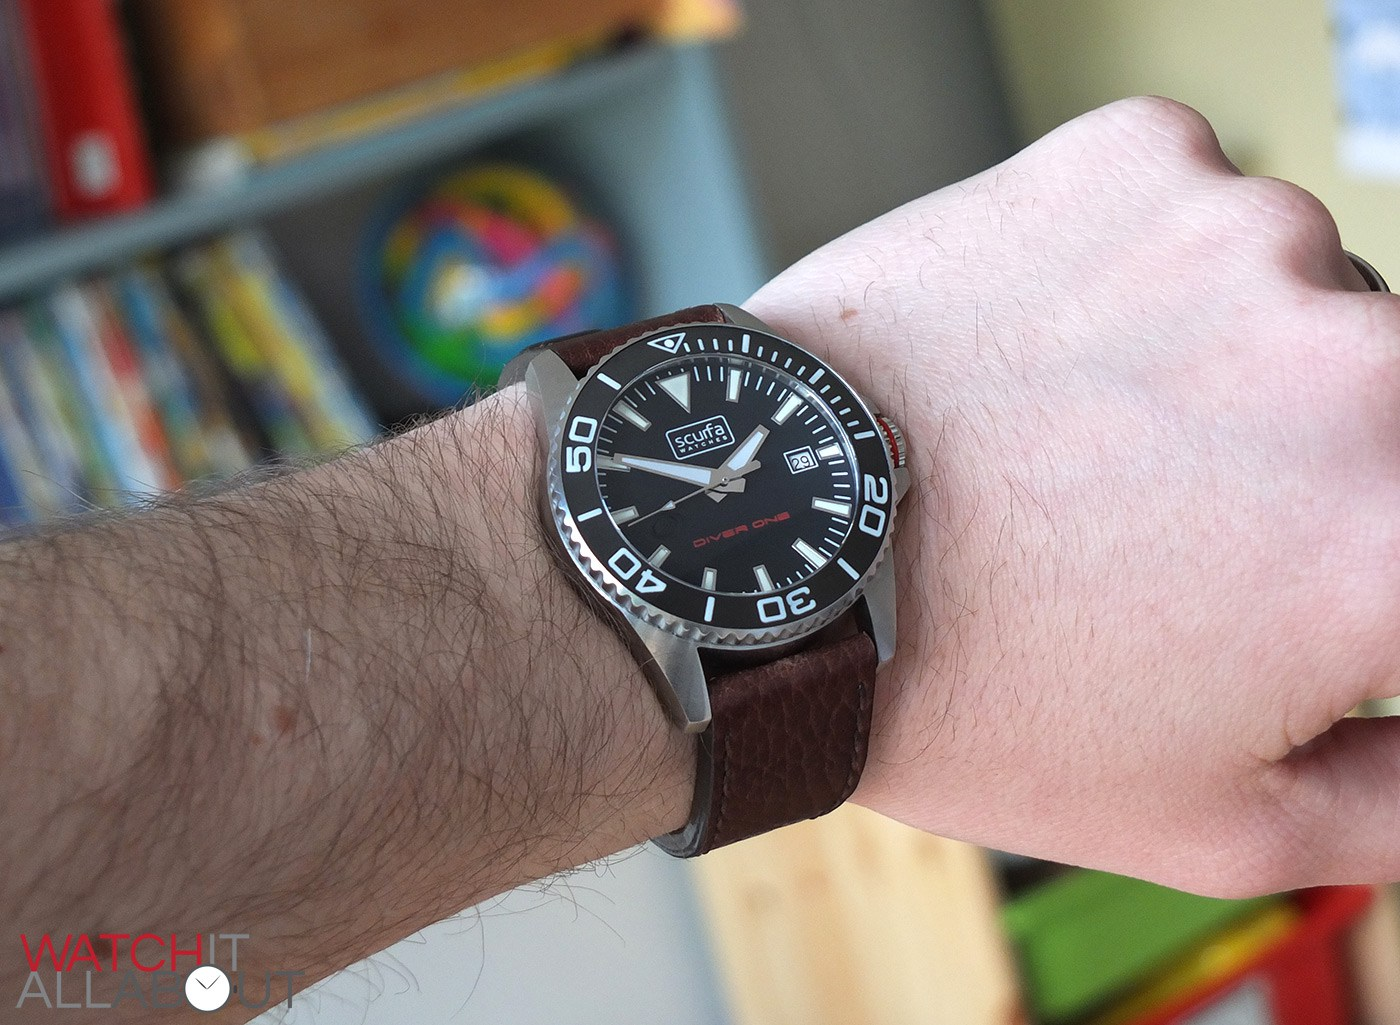clock: (574, 332, 890, 632)
